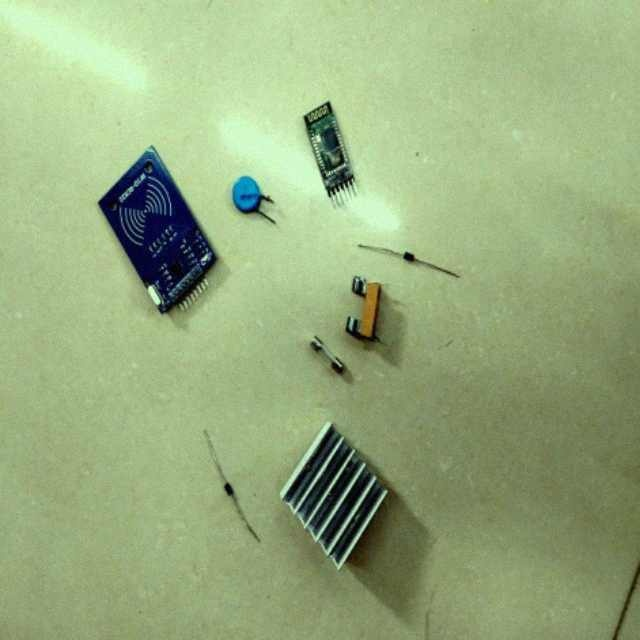capacitor: (233, 176, 263, 214)
